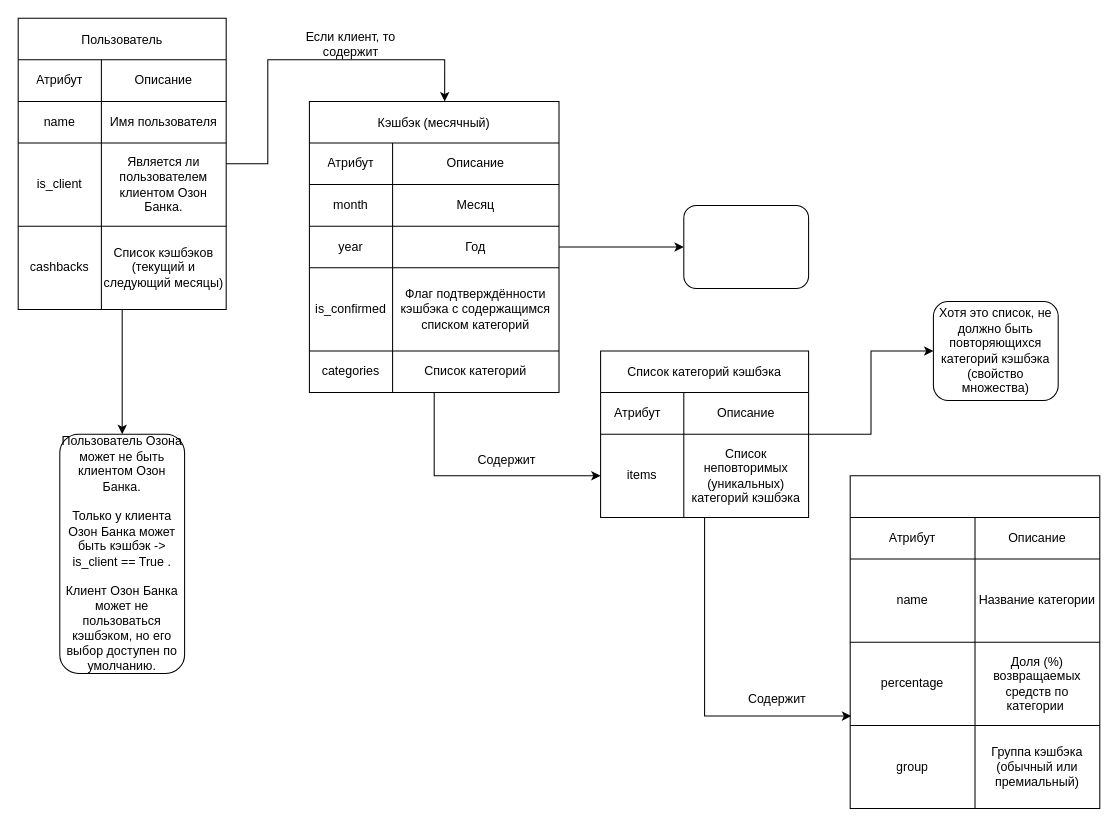
Some shapes in this 1118 by 827 pixel diagram are drawn without their labels. The shapes that lost their labels are listed below. From the top down, each one's box as (x1, y1, x2, y2) in pixels, then its label:
(683, 204, 809, 289): Хотя кэшбэк месячный, но год для истории и различения по годам
(849, 475, 1100, 809): Категория кэшбэка
